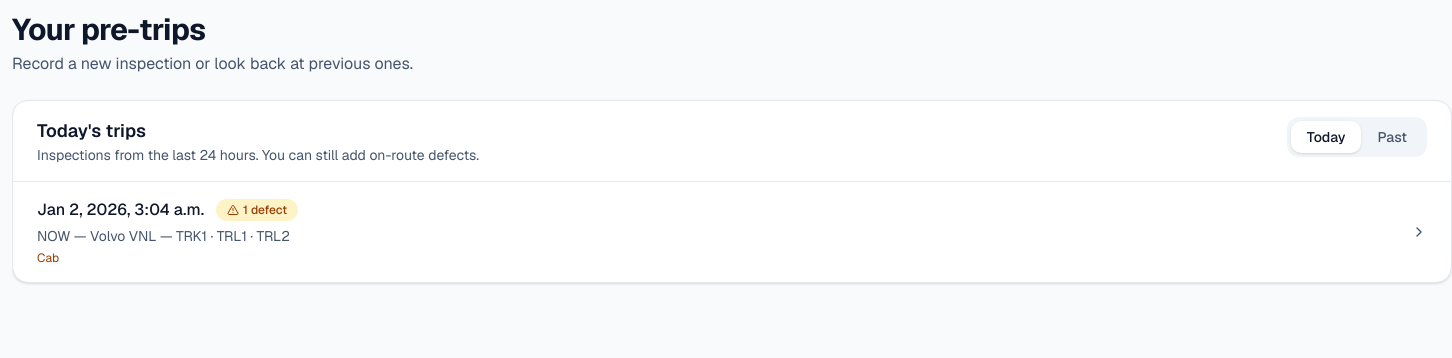
Test case: DisplayTrips › starts on today's trips and switches with the tabs
Check: the heading "Today's trips" is shown, box x1=37 y1=119 x2=146 y2=142
Check: the text "NOW — Volvo VNL — TRK1 · TRL1 · TRL2" is shown, box x1=37 y1=227 x2=290 y2=245
Click the tab "Past" at (1392, 137), box x1=1361 y1=121 x2=1423 y2=153
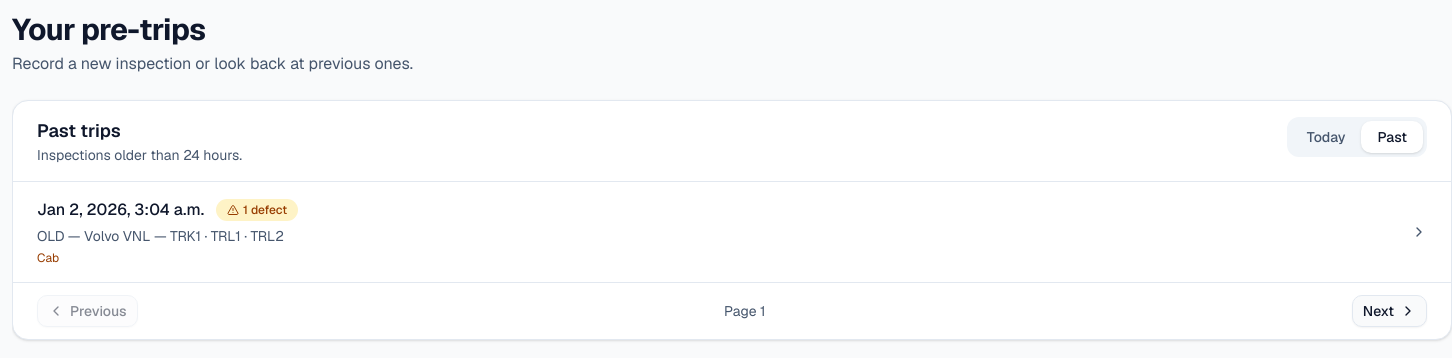
Check: the heading "Past trips" is shown, box x1=37 y1=119 x2=121 y2=142
Click the tab "Today" at (1326, 137), box x1=1291 y1=121 x2=1362 y2=153
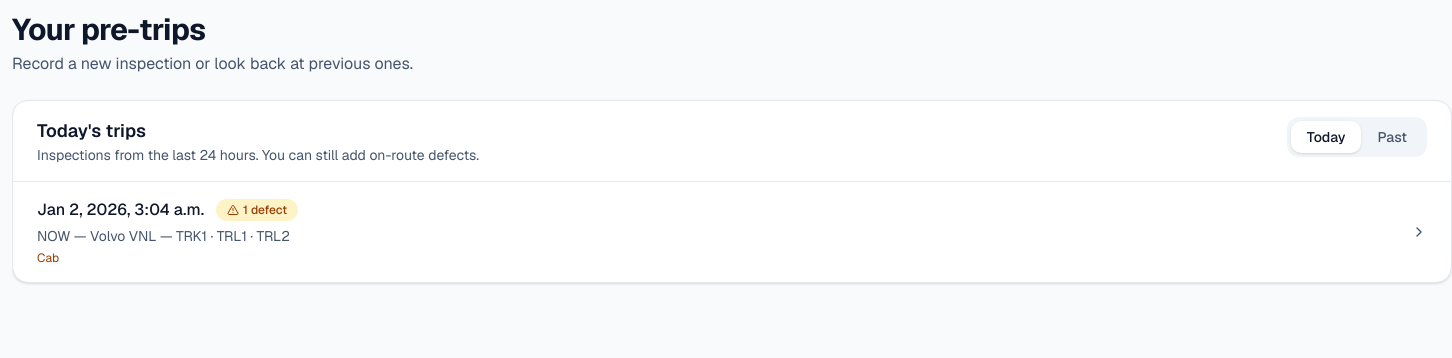
Check: the text "NOW — Volvo VNL — TRK1 · TRL1 · TRL2" is shown, box x1=37 y1=227 x2=290 y2=245
